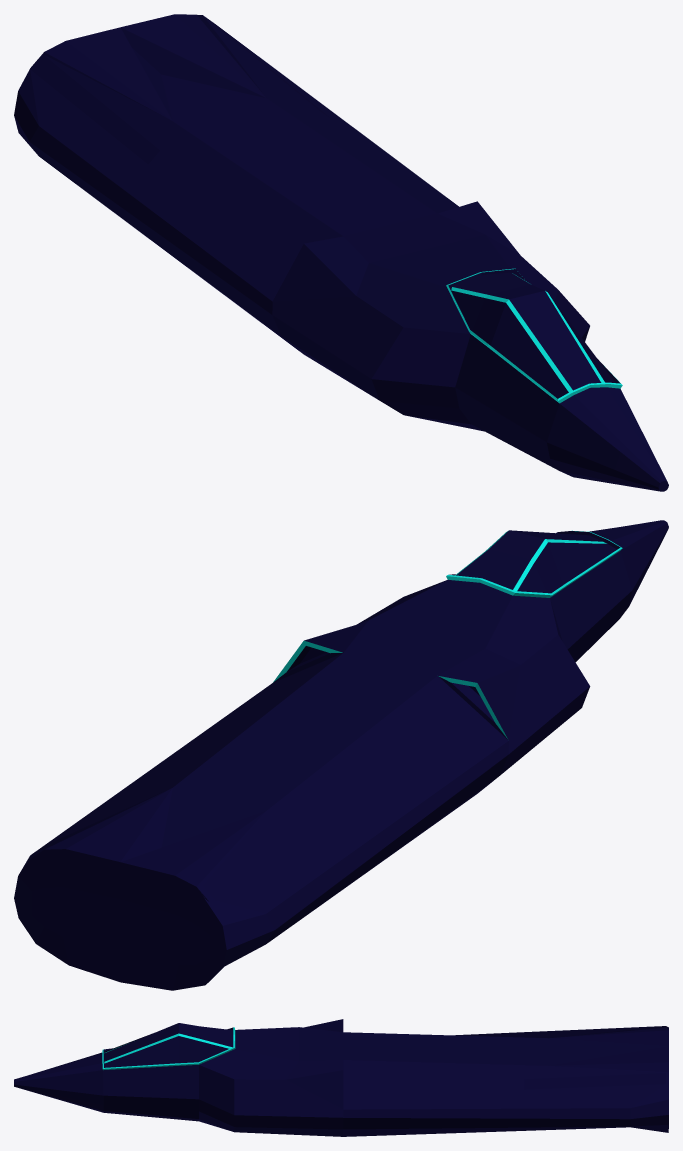
Rendered from 6_Body.fbx.
The picture shows the model from 3 angles, top to bottom: view 1: azimuth 30°, elevation 25°; view 2: azimuth 150°, elevation 25°; view 3: azimuth 270°, elevation 25°; orthographic projection. The views are drawn at different scales.
Parts seen in each view (by area): view 1: Fighter6_body; view 2: Fighter6_body; view 3: Fighter6_body.
Part boxes in pixels (bbox=[...]): Fighter6_body: bbox=[14, 14, 668, 491]; Fighter6_body: bbox=[14, 520, 668, 990]; Fighter6_body: bbox=[14, 1019, 668, 1136].
Size of the model in its own units: 0.6995 by 0.4149 by 2.68.
1 material, 1 textured.
